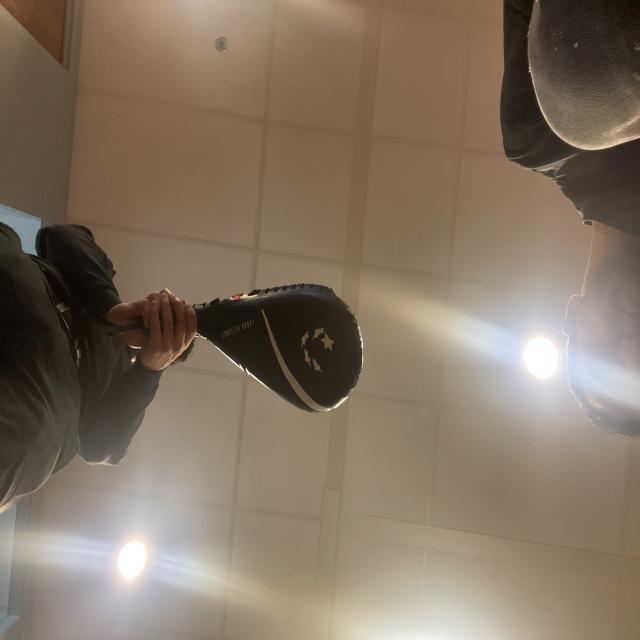paddle: (227, 284, 358, 408)
